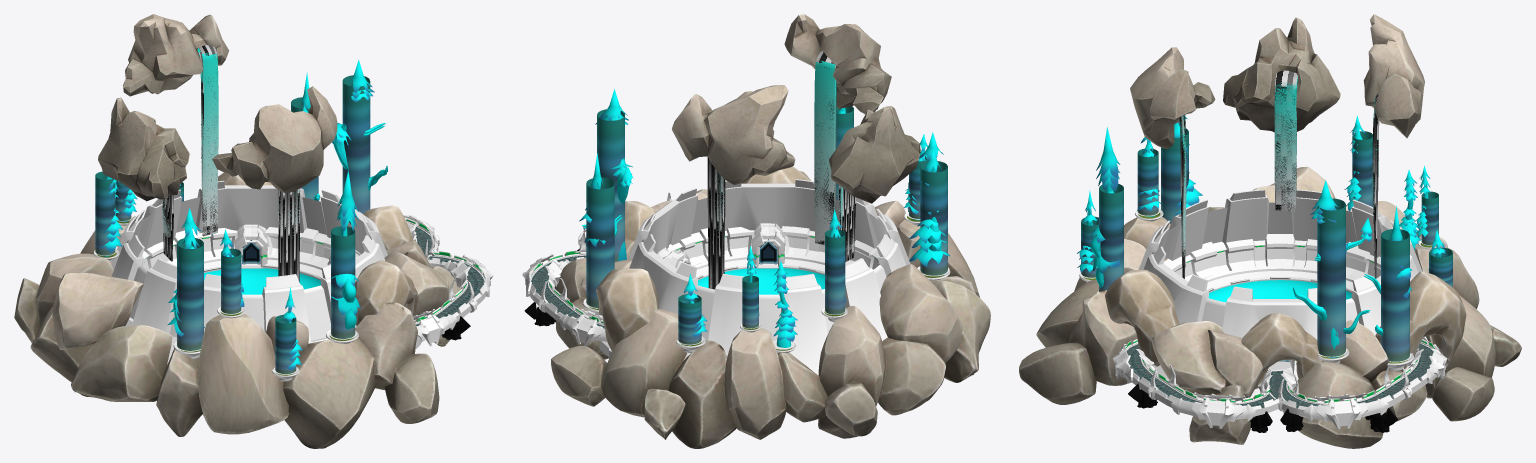
Rendered from arena_waterfall.fbx.
The picture shows the model from 3 angles, left to right: view 1: azimuth 30°, elevation 25°; view 2: azimuth 150°, elevation 25°; view 3: azimuth 270°, elevation 25°; orthographic projection. The views are drawn at different scales.
Visible parts, largest first — view 1: Rocks, FloatingRocks, Walls, polySurface223, WaterfallWaterfall2, WaterfallWaterfall2 (1), LightCone (3), LightCone (7), RockEntrance_01a_ZBrushPolyMesh3D, RED_Glass, LightCone (4), LightCone (8) (+10 smaller); view 2: Rocks, Walls, FloatingRocks, polySurface223, WaterfallWaterfall2 (1), WaterfallWaterfall2, RockEntrance_01a_ZBrushPolyMesh3D2, LightCone (2), LightCone (7), LightCone (3), RED_Glass, LightCone (8) (+13 smaller); view 3: Rocks, FloatingRocks, Walls, polySurface223, RED_Glass, LightCone (3), RockEntrance_01a_ZBrushPolyMesh3D, RockEntrance_01a_ZBrushPolyMesh3D2, WaterfallWaterfall2 (1), LightCone (2), WaterfallWaterfall2, RockEntrance_01a_ZBrushPolyMesh3D1 (+13 smaller).
Boxes of the visible parts, x1,y1,x2,y2 form: Rocks: [14, 198, 460, 448]; FloatingRocks: [98, 14, 337, 201]; Walls: [111, 180, 387, 364]; polySurface223: [142, 227, 422, 349]; WaterfallWaterfall2: [162, 44, 300, 282]; WaterfallWaterfall2 (1): [162, 48, 299, 256]; LightCone (3): [342, 75, 370, 213]; LightCone (7): [177, 238, 203, 350]; RockEntrance_01a_ZBrushPolyMesh3D: [355, 260, 418, 326]; RED_Glass: [403, 215, 493, 346]; LightCone (4): [331, 226, 355, 338]; LightCone (8): [95, 171, 115, 255]; Rocks: [551, 171, 990, 448]; Walls: [628, 179, 910, 375]; FloatingRocks: [672, 14, 920, 203]; polySurface223: [599, 226, 878, 358]; WaterfallWaterfall2 (1): [715, 61, 854, 273]; WaterfallWaterfall2: [707, 50, 855, 289]; RockEntrance_01a_ZBrushPolyMesh3D2: [596, 268, 658, 352]; LightCone (2): [586, 177, 614, 308]; LightCone (7): [920, 161, 947, 275]; LightCone (3): [597, 109, 624, 261]; RED_Glass: [522, 192, 671, 346]; LightCone (8): [825, 229, 845, 314]; Rocks: [1019, 166, 1521, 448]; FloatingRocks: [1130, 14, 1424, 149]; Walls: [1138, 189, 1428, 397]; polySurface223: [1163, 234, 1446, 369]; RED_Glass: [1112, 344, 1447, 429]; LightCone (3): [1317, 198, 1345, 356]; RockEntrance_01a_ZBrushPolyMesh3D: [1105, 269, 1179, 366]; RockEntrance_01a_ZBrushPolyMesh3D2: [1375, 271, 1466, 371]; WaterfallWaterfall2 (1): [1179, 76, 1378, 277]; LightCone (2): [1381, 229, 1409, 361]; WaterfallWaterfall2: [1179, 70, 1379, 278]; RockEntrance_01a_ZBrushPolyMesh3D1: [1241, 313, 1324, 388].
Bounding box in the file's own units: 45.84 × 36.09 × 47.98.
22 materials, 19 textured.
